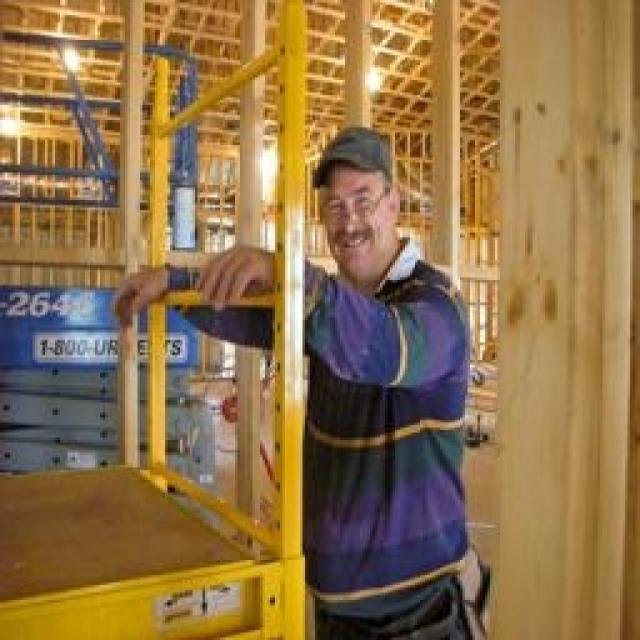Helmet: (263, 217, 495, 640), (296, 94, 414, 190)
